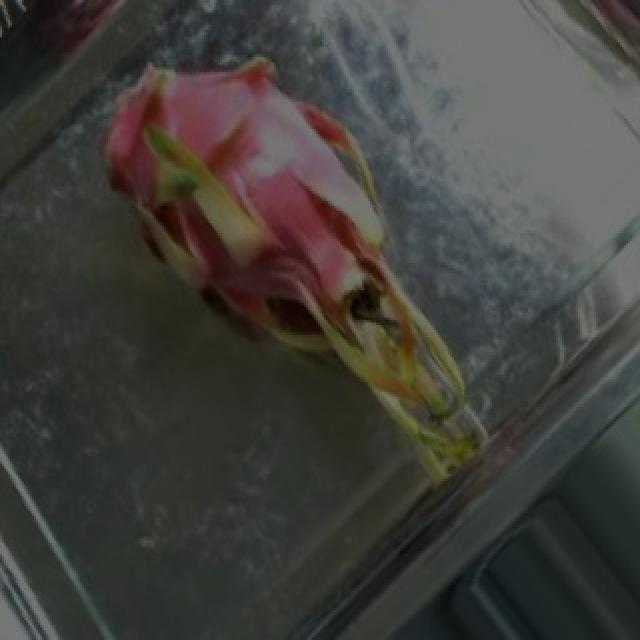fruit: (36, 2, 460, 422)
